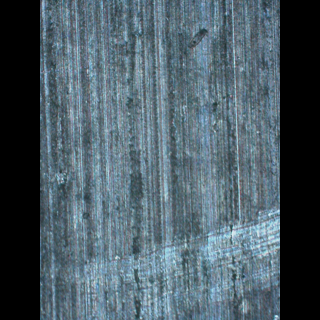d: (67, 205, 278, 319)
